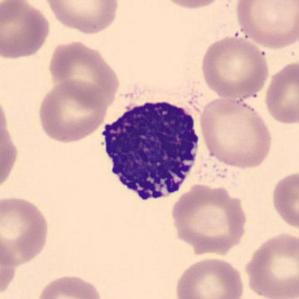Basophil: (94, 90, 204, 210)
RBC: (168, 181, 250, 255), (197, 96, 274, 170), (46, 38, 122, 108), (35, 77, 109, 144), (198, 34, 271, 100), (242, 230, 298, 299), (0, 194, 51, 268), (173, 255, 247, 299), (233, 0, 298, 50), (0, 0, 52, 61), (41, 0, 123, 36), (262, 59, 298, 126), (34, 272, 105, 299), (269, 169, 299, 231), (0, 120, 21, 188), (0, 230, 19, 299), (155, 0, 229, 11)
